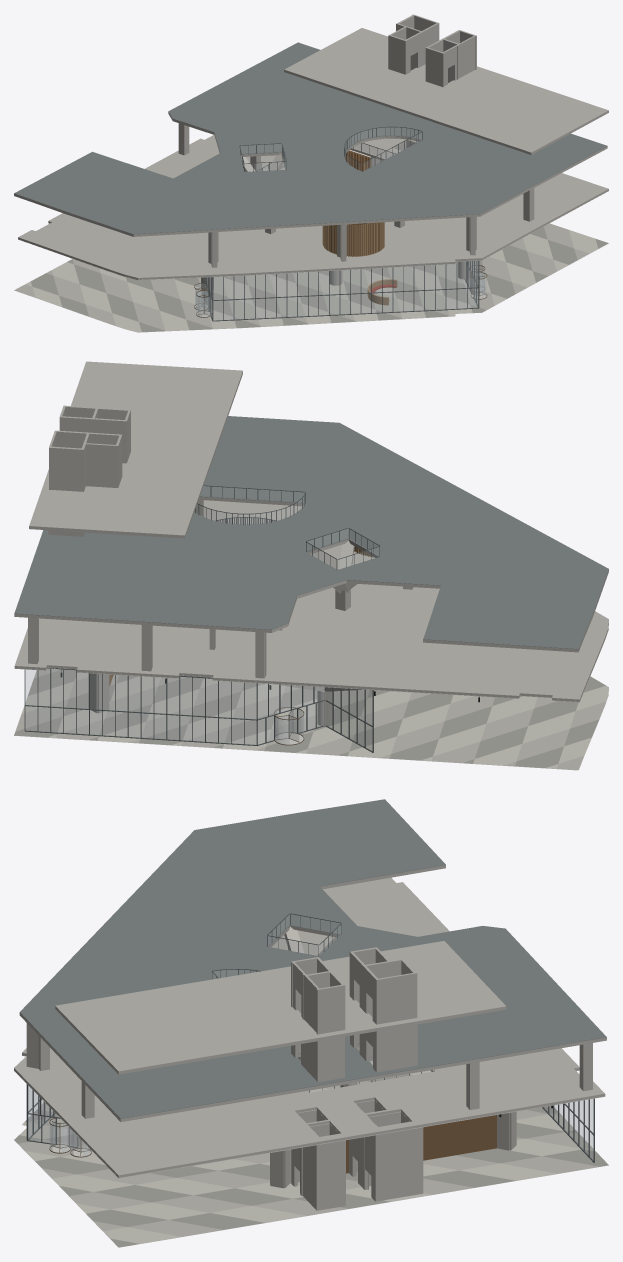
File: mar-interior-e50b20d4c265.glb
3 renders of one model, top to bottom at view 1: azimuth 30°, elevation 25°; view 2: azimuth 150°, elevation 25°; view 3: azimuth 270°, elevation 25°, orthographic. The views are drawn at different scales.
Parts seen in each view (by area): view 1: MAR.001; view 2: MAR.001; view 3: MAR.001.
Part boxes in pixels (left/top/right/bottom): MAR.001: left=14, top=14, right=608, bottom=332; MAR.001: left=14, top=361, right=608, bottom=770; MAR.001: left=14, top=799, right=608, bottom=1247.
Size of the model in its own units: 67.69 by 21.8 by 53.21.
